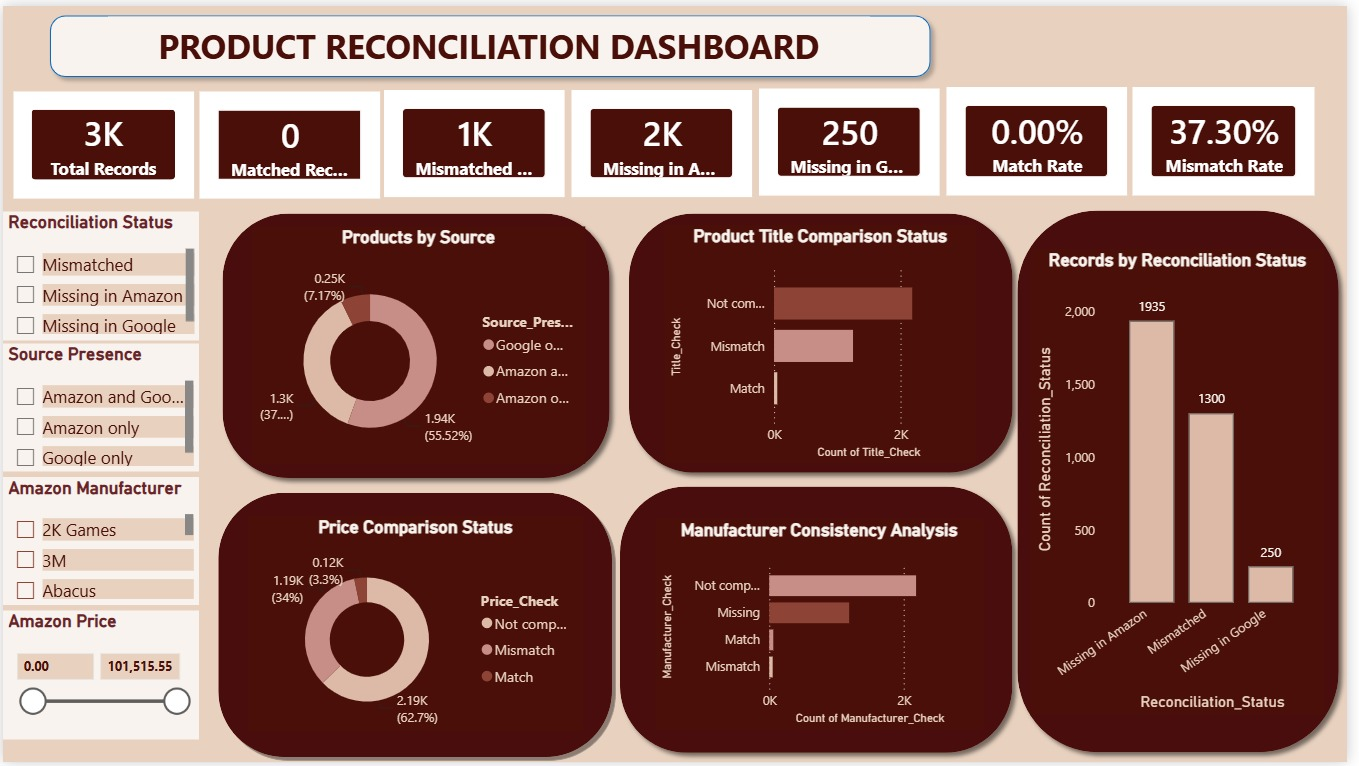

This screenshot's page, from the dashboard's own definition file:
{"tool":"powerbi","page":{"name":"Dashboard 1","canvas":[1280,720],"ordinal":0},"visuals":[{"type":"shape","box":[35,0,856.7,76.7],"z":0},{"type":"shape","box":[956.7,185,324,534],"z":1000},{"type":"shape","box":[578.3,448.3,391.7,271.7],"z":2000},{"type":"shape","box":[586.7,188.3,383.3,265],"z":3000},{"type":"shape","box":[200,188.3,386.7,270],"z":4000},{"type":"shape","box":[200,458.3,385,261.7],"z":5000},{"type":"cardVisual","fields":{"Data":["Final_Reconciliation.Total Records"]},"box":[10,81.7,171.7,101.7],"z":6000},{"type":"cardVisual","fields":{"Data":["Final_Reconciliation.Matched Records"]},"box":[186.7,81.7,171.7,101.7],"z":7000},{"type":"cardVisual","fields":{"Data":["Final_Reconciliation.Mismatched Records"]},"box":[363.3,80,171.7,101.7],"z":8000},{"type":"cardVisual","fields":{"Data":["Final_Reconciliation.Missing in Amazon"]},"box":[541.7,80,171.7,101.7],"z":9000},{"type":"cardVisual","fields":{"Data":["Final_Reconciliation.Missing in Google"]},"box":[720,78.3,171.7,101.7],"z":10000},{"type":"cardVisual","fields":{"Data":["Final_Reconciliation.Match Rate"]},"box":[898.3,76.7,171.7,103.3],"z":11000},{"type":"cardVisual","fields":{"Data":["Final_Reconciliation.Mismatch Rate"]},"box":[1075,76.7,173.3,103.3],"z":12000},{"type":"clusteredColumnChart","title":"Records by Reconciliation Status","fields":{"Category":["Final_Reconciliation.Reconciliation_Status"],"Y":["CountNonNull(Final_Reconciliation.Reconciliation_Status)"]},"box":[978,232,280,444],"z":13000},{"type":"slicer","title":"Reconciliation Status","fields":{"Values":["Final_Reconciliation.Reconciliation_Status"]},"box":[0,195,186.7,121.7],"z":14000},{"type":"slicer","title":"Source Presence","fields":{"Values":["Final_Reconciliation.Source_Presence"]},"box":[0,321.7,186,121],"z":15000},{"type":"slicer","title":"Amazon Manufacturer","fields":{"Values":["Final_Reconciliation.Amazon_Manufacturer"]},"box":[0,448.6,186,121],"z":16000},{"type":"slicer","title":"Amazon Price","fields":{"Values":["Final_Reconciliation.Amazon_Price"]},"box":[0,575,186.7,121.7],"z":17000},{"type":"donutChart","title":"Products by Source","fields":{"Category":["Final_Reconciliation.Source_Presence"],"Y":["CountNonNull(Final_Reconciliation.Source_Presence)"]},"box":[236.7,210,317.3,225.9],"z":18000},{"type":"donutChart","title":" Price Comparison Status","fields":{"Category":["Final_Reconciliation.Price_Check"],"Y":["CountNonNull(Final_Reconciliation.Price_Check)"]},"box":[233.3,485,320,205],"z":19000},{"type":"clusteredBarChart","title":"Manufacturer Consistency Analysis","fields":{"Category":["Final_Reconciliation.Manufacturer_Check"],"Y":["CountNonNull(Final_Reconciliation.Manufacturer_Check)"]},"box":[621.7,488.3,312,200],"z":20000},{"type":"clusteredBarChart","title":"Product Title Comparison Status","fields":{"Category":["Final_Reconciliation.Title_Check"],"Y":["CountNonNull(Final_Reconciliation.Title_Check)"]},"box":[630,208.3,296.7,226.7],"z":21000},{"type":"textbox","box":[100,10,725,55],"z":22000}]}

Visuals, with their boxes in screenshot pixels (x1, y1, x2, y2), scaled from the page's 1280x720 canvas onto the 1359x766 screenshot:
shape: bbox(37, 0, 947, 82)
shape: bbox(1016, 197, 1358, 765)
shape: bbox(614, 477, 1030, 765)
shape: bbox(623, 200, 1030, 482)
shape: bbox(212, 200, 623, 488)
shape: bbox(212, 488, 621, 765)
cardVisual - Final_Reconciliation.Total Records: bbox(11, 87, 193, 195)
cardVisual - Final_Reconciliation.Matched Records: bbox(198, 87, 381, 195)
cardVisual - Final_Reconciliation.Mismatched Records: bbox(386, 85, 568, 193)
cardVisual - Final_Reconciliation.Missing in Amazon: bbox(575, 85, 757, 193)
cardVisual - Final_Reconciliation.Missing in Google: bbox(764, 83, 947, 192)
cardVisual - Final_Reconciliation.Match Rate: bbox(954, 82, 1136, 192)
cardVisual - Final_Reconciliation.Mismatch Rate: bbox(1141, 82, 1325, 192)
"Records by Reconciliation Status" clusteredColumnChart: bbox(1038, 247, 1336, 719)
"Reconciliation Status" slicer: bbox(0, 207, 198, 337)
"Source Presence" slicer: bbox(0, 342, 197, 471)
"Amazon Manufacturer" slicer: bbox(0, 477, 197, 606)
"Amazon Price" slicer: bbox(0, 612, 198, 741)
"Products by Source" donutChart: bbox(251, 223, 588, 464)
" Price Comparison Status" donutChart: bbox(248, 516, 587, 734)
"Manufacturer Consistency Analysis" clusteredBarChart: bbox(660, 519, 991, 732)
"Product Title Comparison Status" clusteredBarChart: bbox(669, 222, 984, 463)
textbox: bbox(106, 11, 876, 69)
